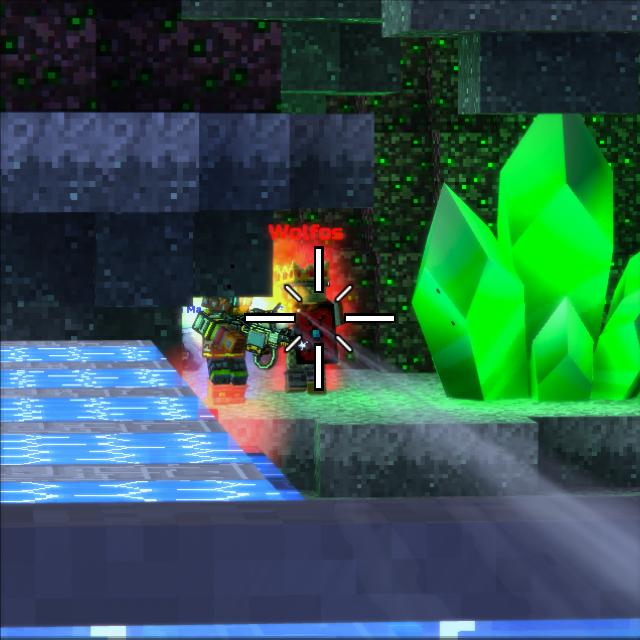Enemy: (273, 264, 344, 395)
